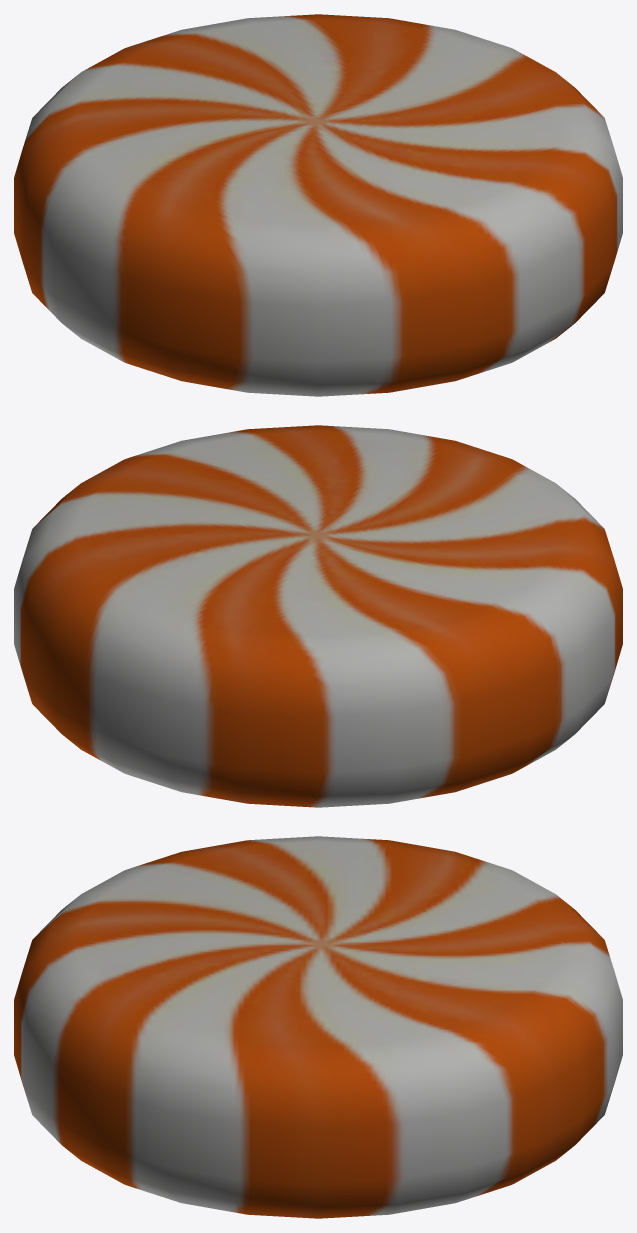
File: SimpleCandy.glb
3 views of the same model, one above another, from view 1: azimuth 30°, elevation 25°; view 2: azimuth 150°, elevation 25°; view 3: azimuth 270°, elevation 25° (orthographic).
Parts seen in each view (by area): view 1: geometry_0; view 2: geometry_0; view 3: geometry_0.
Boxes of the visible parts, <box> form: geometry_0: <box>14,14,622,396</box>; geometry_0: <box>14,425,622,807</box>; geometry_0: <box>14,836,622,1218</box>.
Size of the model in its own units: 1 by 0.3 by 1.
Materials: 1 (1 with a texture image).
